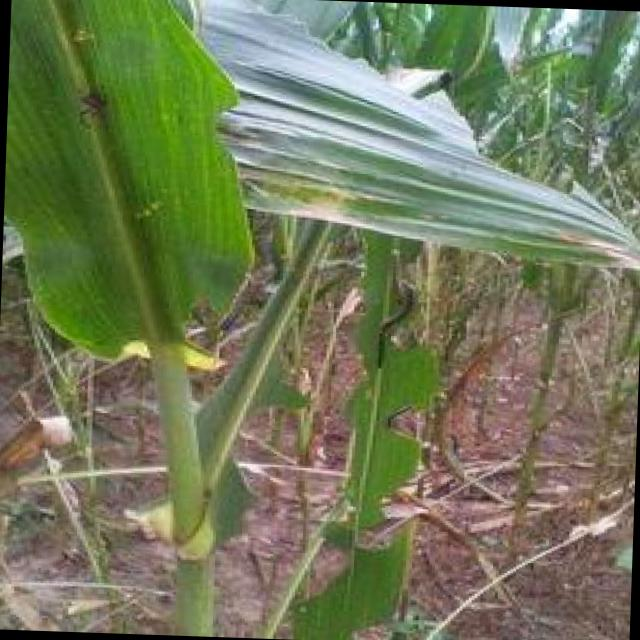pest: (375, 283, 420, 366)
